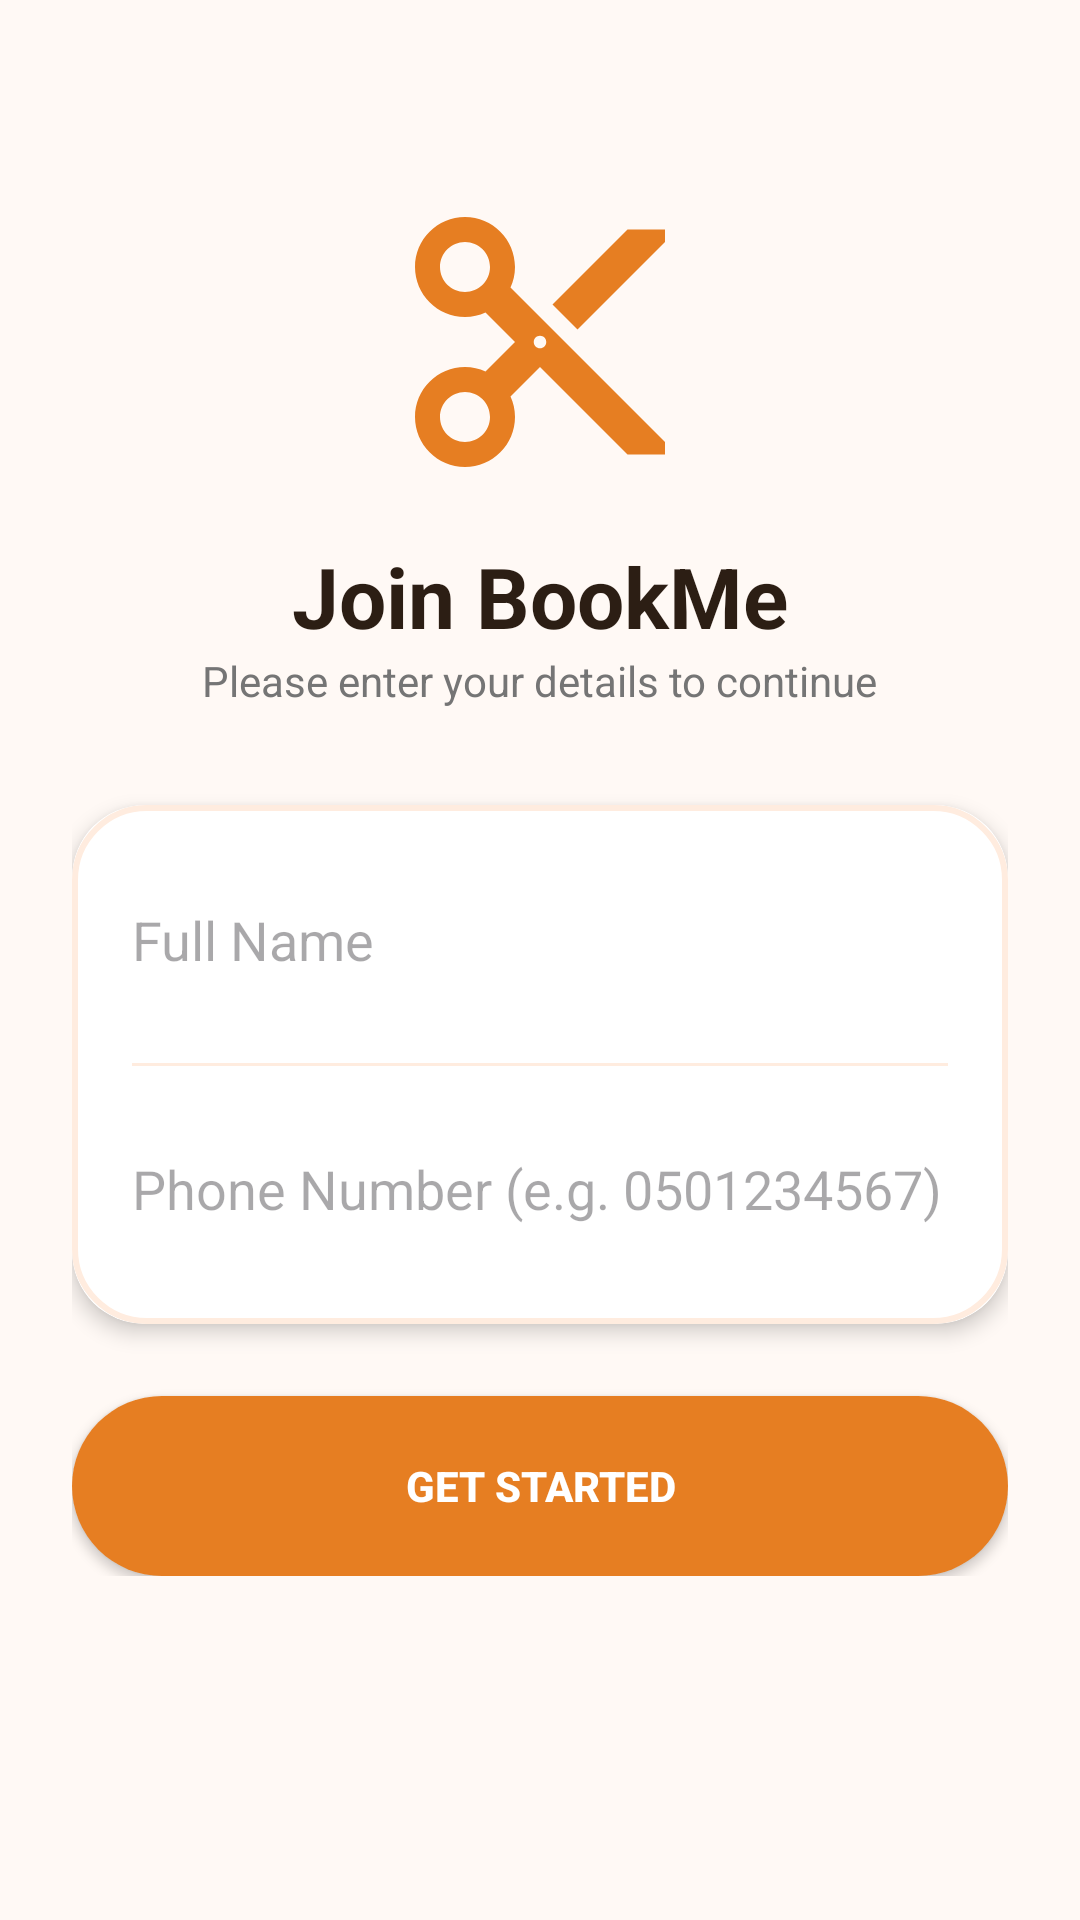

Screen size 1080px x 1920px. Icon name, then its center in pixels as (x,y):
scissors: (540,342)
